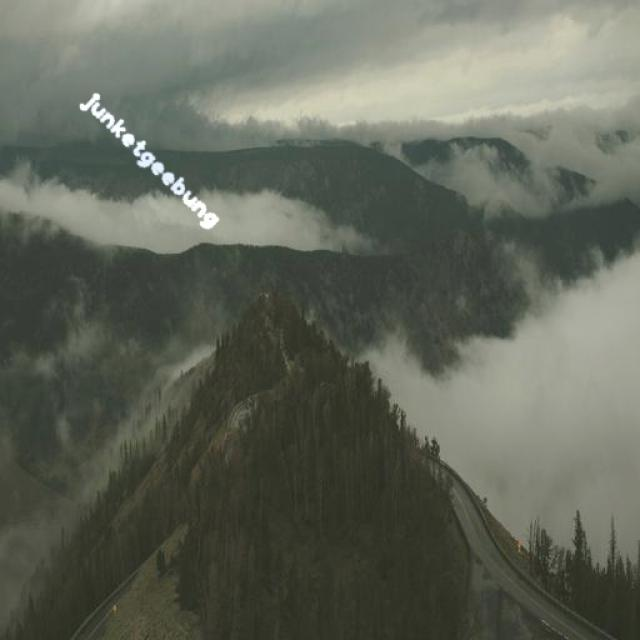watermark: (76, 87, 226, 233)
